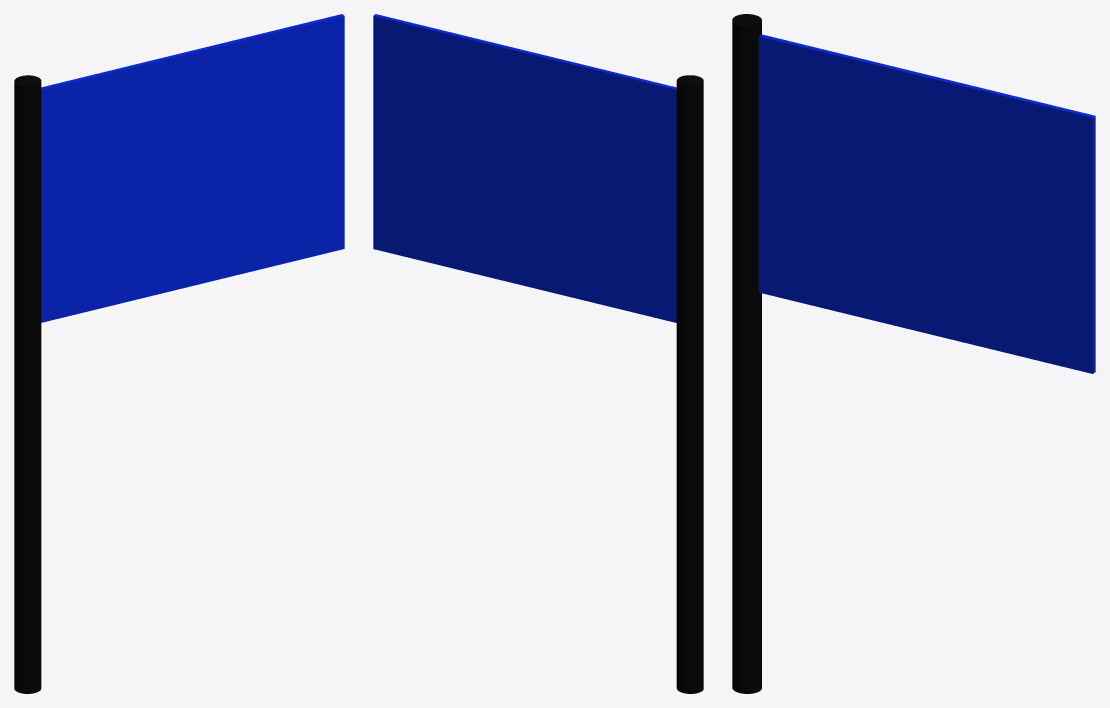
File: BlueFlag.fbx
The picture shows the model from 3 angles, left to right: view 1: azimuth 30°, elevation 25°; view 2: azimuth 150°, elevation 25°; view 3: azimuth 330°, elevation 25°; orthographic projection. The views are drawn at different scales.
Parts seen in each view (by area): view 1: Cube, Cylinder; view 2: Cube, Cylinder; view 3: Cube, Cylinder.
Part boxes in pixels (left/top/right/bottom): Cube: left=41, top=14, right=344, bottom=322; Cylinder: left=14, top=75, right=41, bottom=693; Cube: left=373, top=14, right=676, bottom=322; Cylinder: left=676, top=75, right=703, bottom=693; Cube: left=758, top=34, right=1095, bottom=373; Cylinder: left=732, top=14, right=761, bottom=693.
Size of the model in its own units: 294 by 521 by 20.61.
